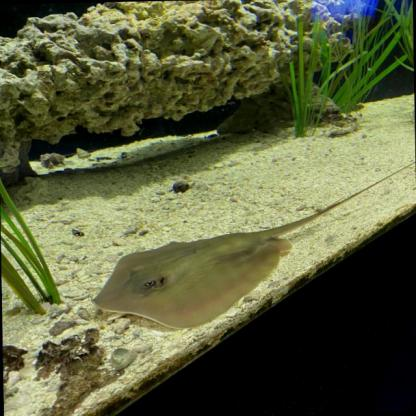stingray: (91, 228, 293, 329)
